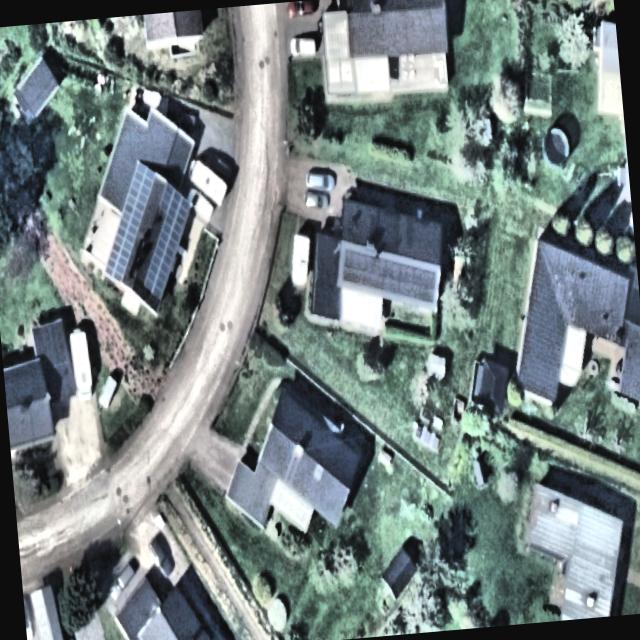roof_pv: (339, 242, 440, 314), (98, 199, 150, 282), (148, 178, 194, 254), (140, 236, 182, 300), (120, 157, 160, 211)
